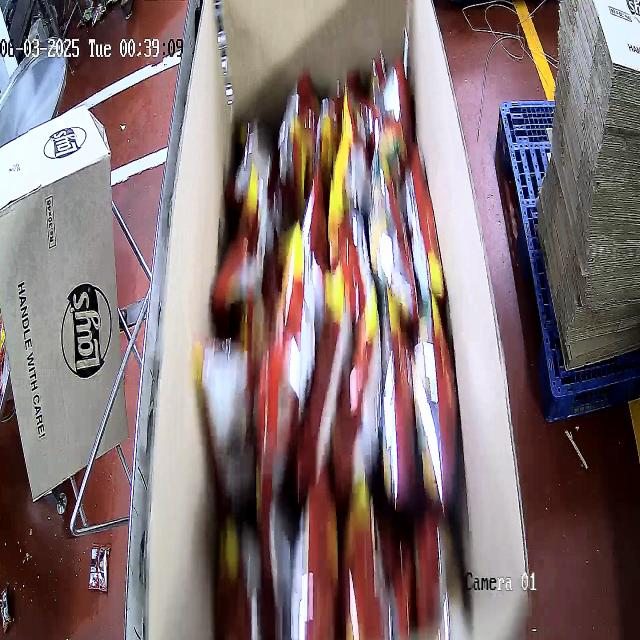MASALA: (205, 47, 469, 638)
